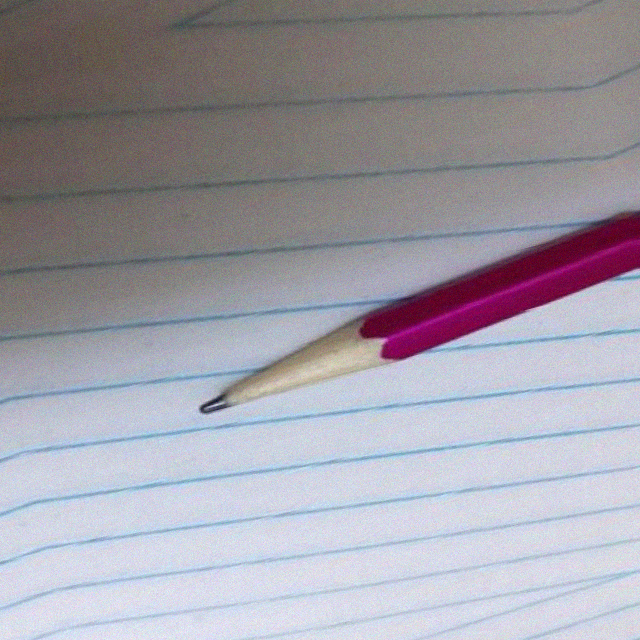pencil: (190, 317, 414, 427)
